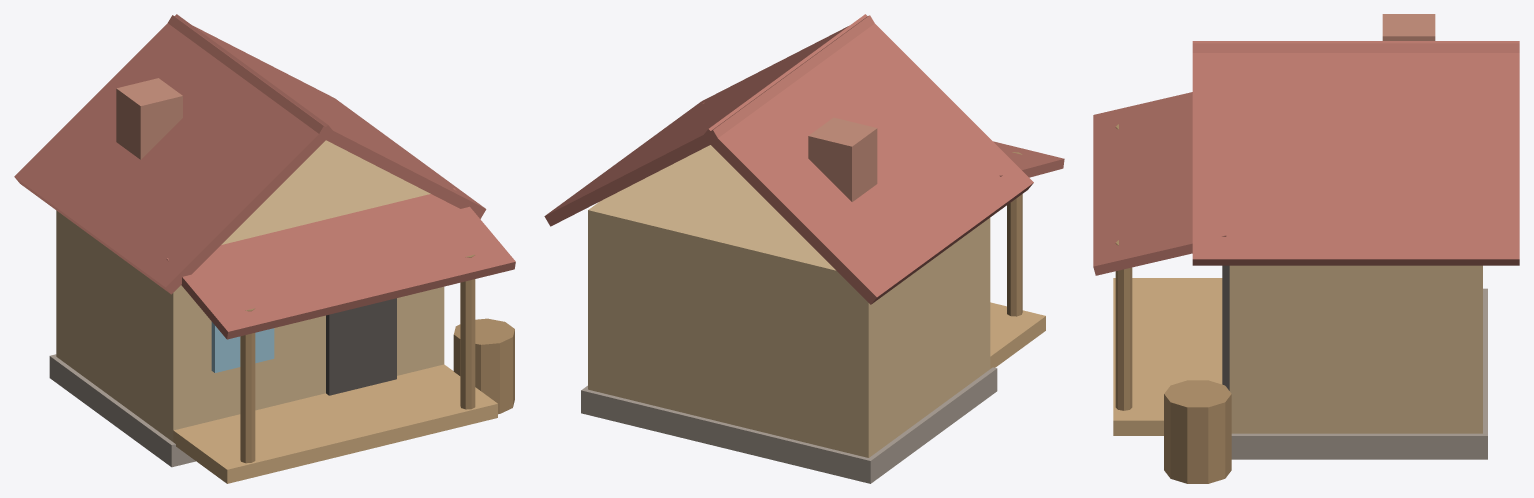
The model's file is ranch_house.glb.
The picture shows the model from 3 angles, left to right: view 1: azimuth 30°, elevation 25°; view 2: azimuth 150°, elevation 25°; view 3: azimuth 270°, elevation 25°; orthographic projection. The views are drawn at different scales.
Visible parts, largest first — view 1: ranch_house; view 2: ranch_house; view 3: ranch_house.
Part boxes in pixels (bbox=[...]): ranch_house: bbox=[14, 14, 515, 483]; ranch_house: bbox=[544, 14, 1064, 483]; ranch_house: bbox=[1093, 14, 1519, 483].
Bounding box in the file's own units: 4.1 × 3.6 × 4.04.
